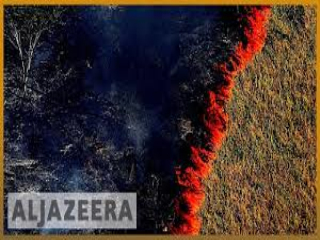fire: (174, 10, 268, 231)
